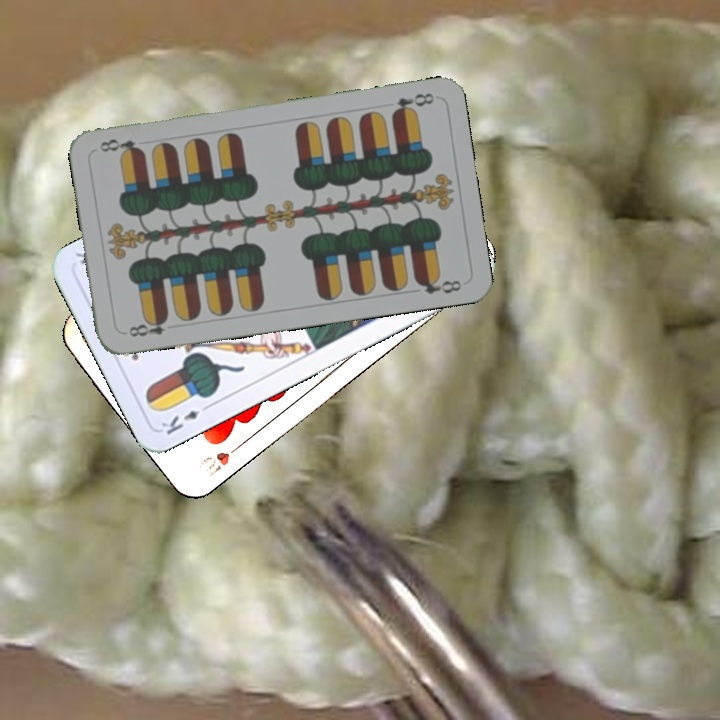E8: (124, 312, 179, 340), (387, 88, 437, 118)
EK: (157, 399, 214, 438)
H10: (196, 438, 247, 481)
